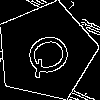Q: (21, 26, 83, 81)
